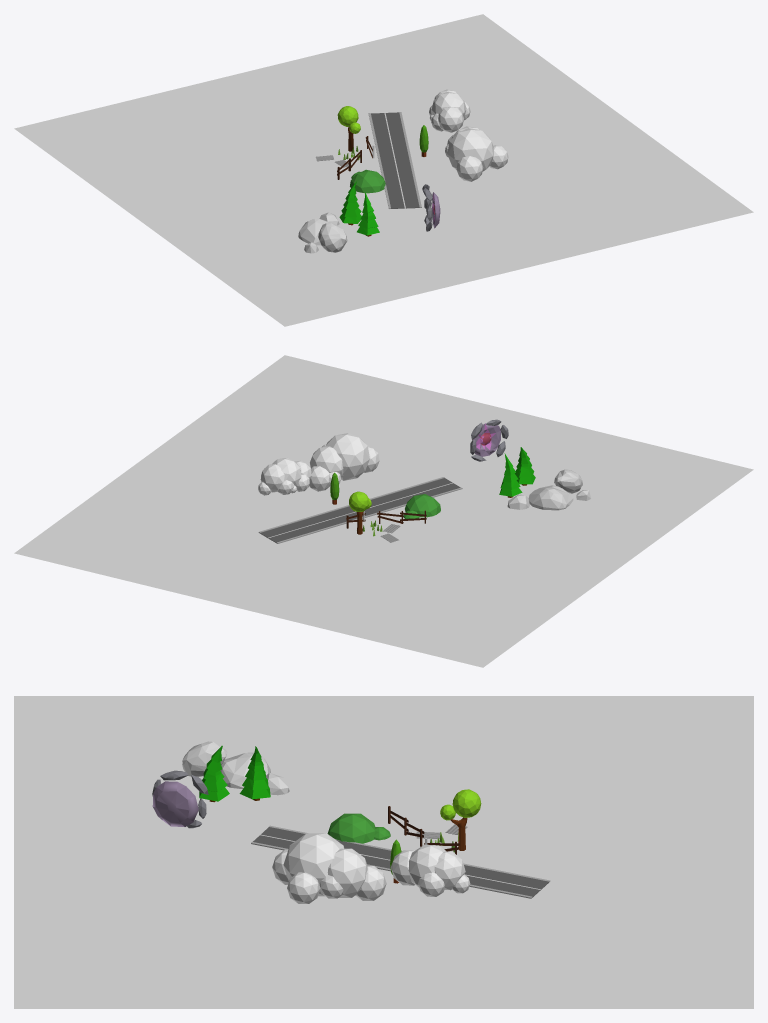
Rendered from env.dae.
3 views of the same model, one above another, from view 1: azimuth 30°, elevation 25°; view 2: azimuth 150°, elevation 25°; view 3: azimuth 270°, elevation 25° (orthographic). The views are drawn at different scales.
Parts seen in each view (by area): view 1: Plane, Cube_016, Icosphere_016, Sphere_001, Icosphere_025, Cylinder_001, Icosphere_013, Icosphere_003, Icosphere_010, Cylinder; view 2: Plane, Cube_016, Icosphere_016, Sphere, Cylinder_011, Icosphere_017, Icosphere_025, Cylinder_001; view 3: Plane, Cube_016, Icosphere_016, Cylinder_011, Icosphere_017, Icosphere_025, Cylinder_001, Cylinder, Sphere_001, Icosphere_010, Sphere, Icosphere_015 (+4 smaller).
Part boxes in pixels (bbox=[...]): Plane: bbox=[14, 14, 753, 326]; Cube_016: bbox=[368, 112, 421, 208]; Icosphere_016: bbox=[447, 128, 493, 171]; Sphere_001: bbox=[318, 223, 347, 252]; Icosphere_025: bbox=[350, 169, 385, 193]; Cylinder_001: bbox=[339, 181, 361, 225]; Icosphere_013: bbox=[456, 156, 483, 181]; Icosphere_003: bbox=[438, 106, 463, 132]; Icosphere_010: bbox=[431, 91, 466, 117]; Cylinder: bbox=[357, 192, 379, 236]; Plane: bbox=[14, 355, 753, 667]; Cube_016: bbox=[258, 477, 462, 543]; Icosphere_016: bbox=[325, 433, 369, 480]; Sphere: bbox=[528, 485, 573, 510]; Cylinder_011: bbox=[472, 423, 500, 456]; Icosphere_017: bbox=[310, 446, 343, 477]; Icosphere_025: bbox=[405, 494, 440, 517]; Cylinder_001: bbox=[499, 453, 522, 497]; Plane: bbox=[14, 696, 753, 1008]; Cube_016: bbox=[251, 825, 550, 898]; Icosphere_016: bbox=[283, 833, 344, 896]; Cylinder_011: bbox=[152, 781, 198, 826]; Icosphere_017: bbox=[327, 848, 367, 897]; Icosphere_025: bbox=[327, 813, 375, 843]; Cylinder_001: bbox=[239, 746, 270, 800]; Cylinder: bbox=[199, 745, 229, 802]; Sphere_001: bbox=[182, 741, 227, 777]; Icosphere_010: bbox=[408, 844, 446, 887]; Sphere: bbox=[220, 752, 270, 788]; Icosphere_015: bbox=[287, 872, 320, 903].
Bounding box in the file's own units: 47.01 × 47.01 × 6.32.
